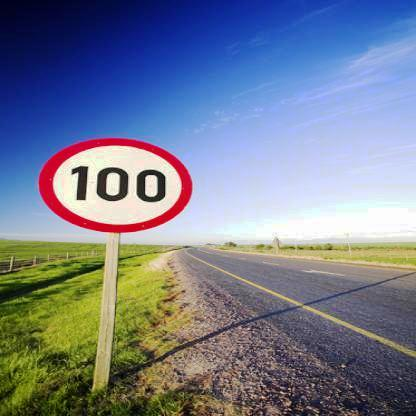Speed Limit -100-: (33, 139, 197, 240)
